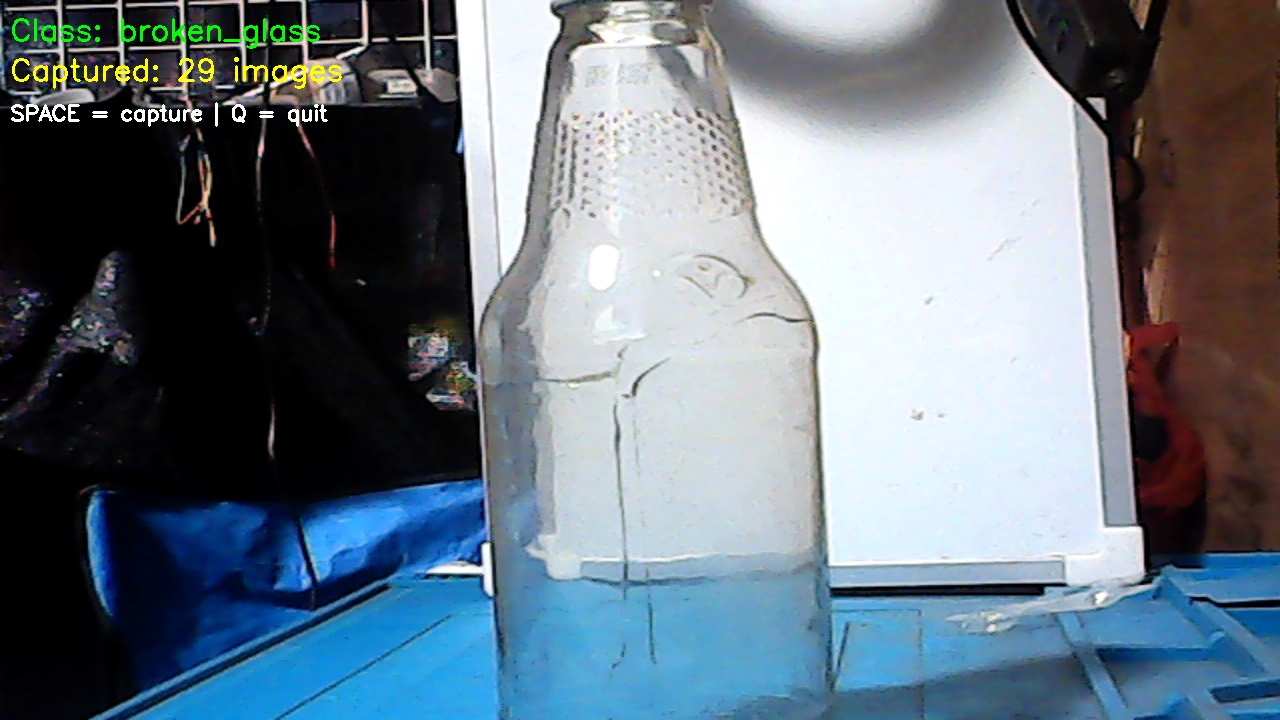broken_glass: (458, 0, 832, 718)
